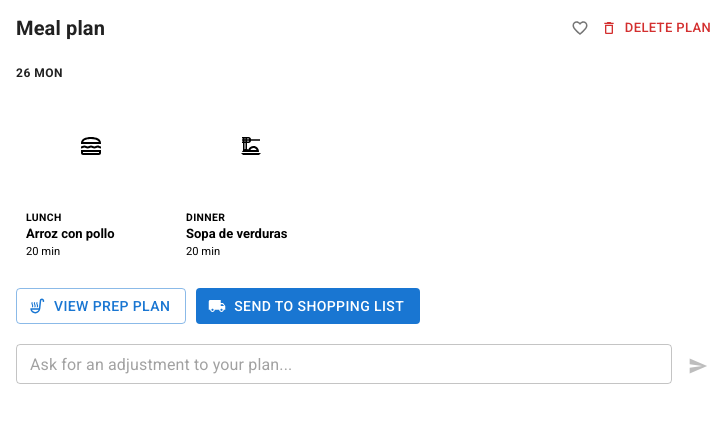
it: MealprepView › shows the batch prep plan view when available
The width and height of the screenshot is (727, 439).
Click the button "View prep plan".
click(101, 306)  # box [16,288,186,324]
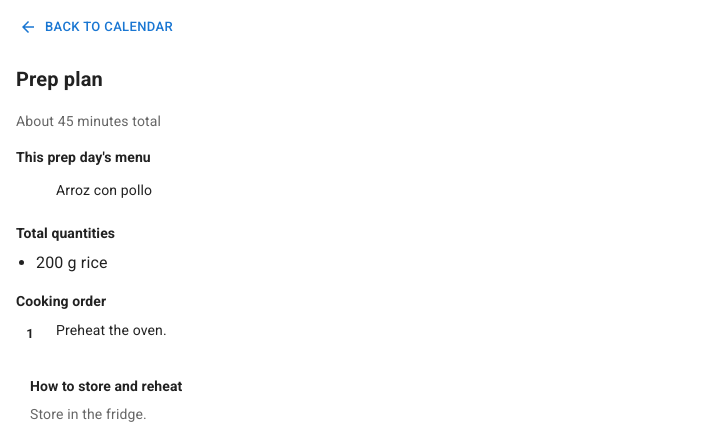
Now the text "Preheat the oven." is shown, box [56,319,167,341]
